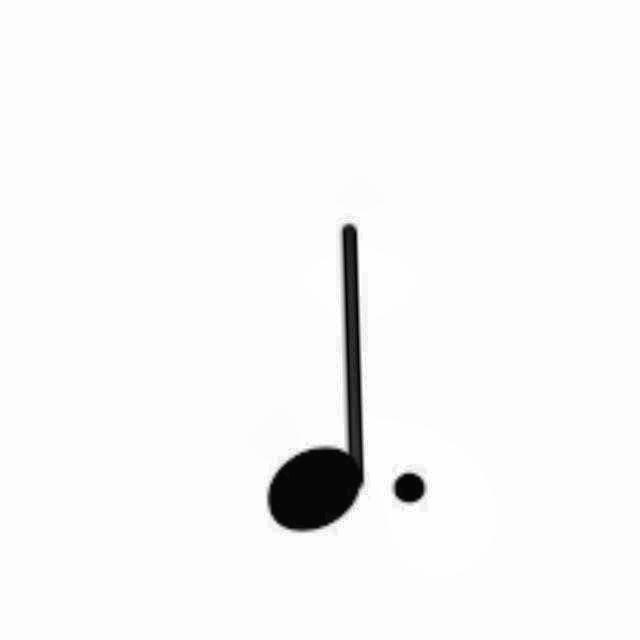Quarter-dot: (250, 219, 446, 535)
